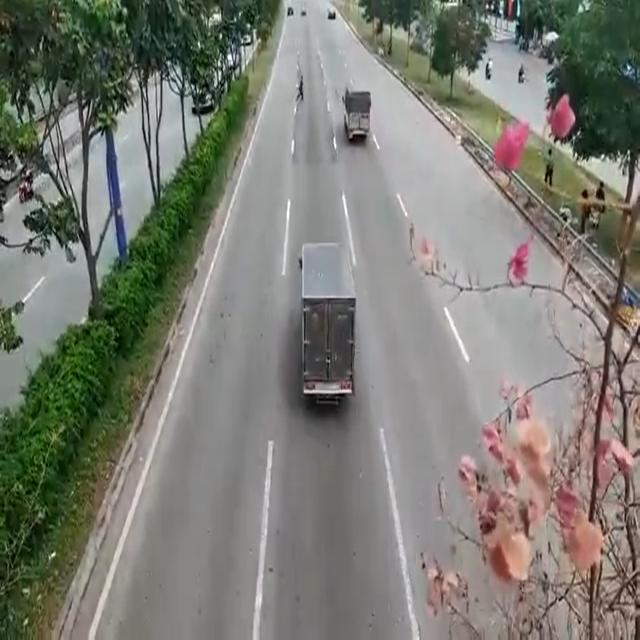truck: (298, 240, 360, 424), (340, 72, 370, 140)
